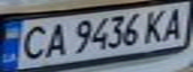3: (106, 12, 127, 50)
4: (90, 15, 112, 52)
6: (124, 10, 148, 47)
9: (69, 17, 93, 55)
A: (157, 3, 190, 42), (39, 20, 69, 58)
C: (15, 23, 51, 62)
K: (139, 7, 172, 44)
